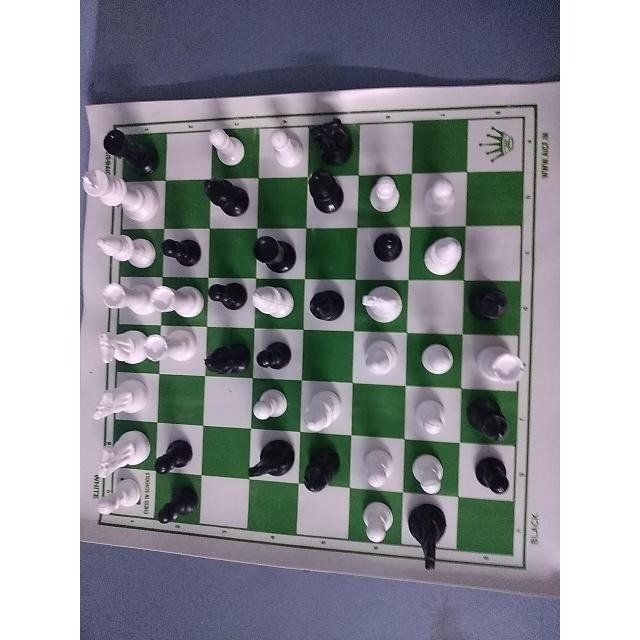black-bishop: (463, 392, 517, 449), (199, 171, 251, 225), (312, 165, 348, 222), (205, 333, 251, 377), (469, 284, 519, 324), (302, 445, 336, 495), (308, 282, 344, 326)
black-knight: (409, 507, 448, 579), (309, 108, 356, 165), (247, 444, 297, 488)
black-pawn: (464, 454, 512, 507), (155, 429, 206, 475), (153, 481, 201, 527), (365, 224, 406, 276), (162, 225, 205, 270), (255, 332, 298, 376), (211, 276, 243, 317)
black-rook: (102, 119, 160, 163), (255, 229, 302, 277)
white-bishop: (95, 230, 163, 270), (411, 228, 462, 279), (359, 332, 404, 387), (299, 381, 343, 431), (248, 280, 294, 326)
white-king: (80, 170, 157, 222)
white-knight: (87, 378, 147, 422), (91, 432, 148, 476), (359, 282, 404, 326), (100, 327, 139, 371)
white-pawn: (413, 324, 460, 377), (358, 437, 398, 493), (356, 491, 398, 544), (91, 477, 142, 519), (413, 390, 453, 442), (365, 171, 405, 221), (267, 121, 306, 172), (200, 124, 248, 164), (415, 448, 450, 499), (420, 177, 458, 221), (249, 387, 285, 427)
white-rook: (479, 336, 527, 390), (140, 322, 195, 367), (104, 276, 152, 316), (153, 279, 201, 317)
